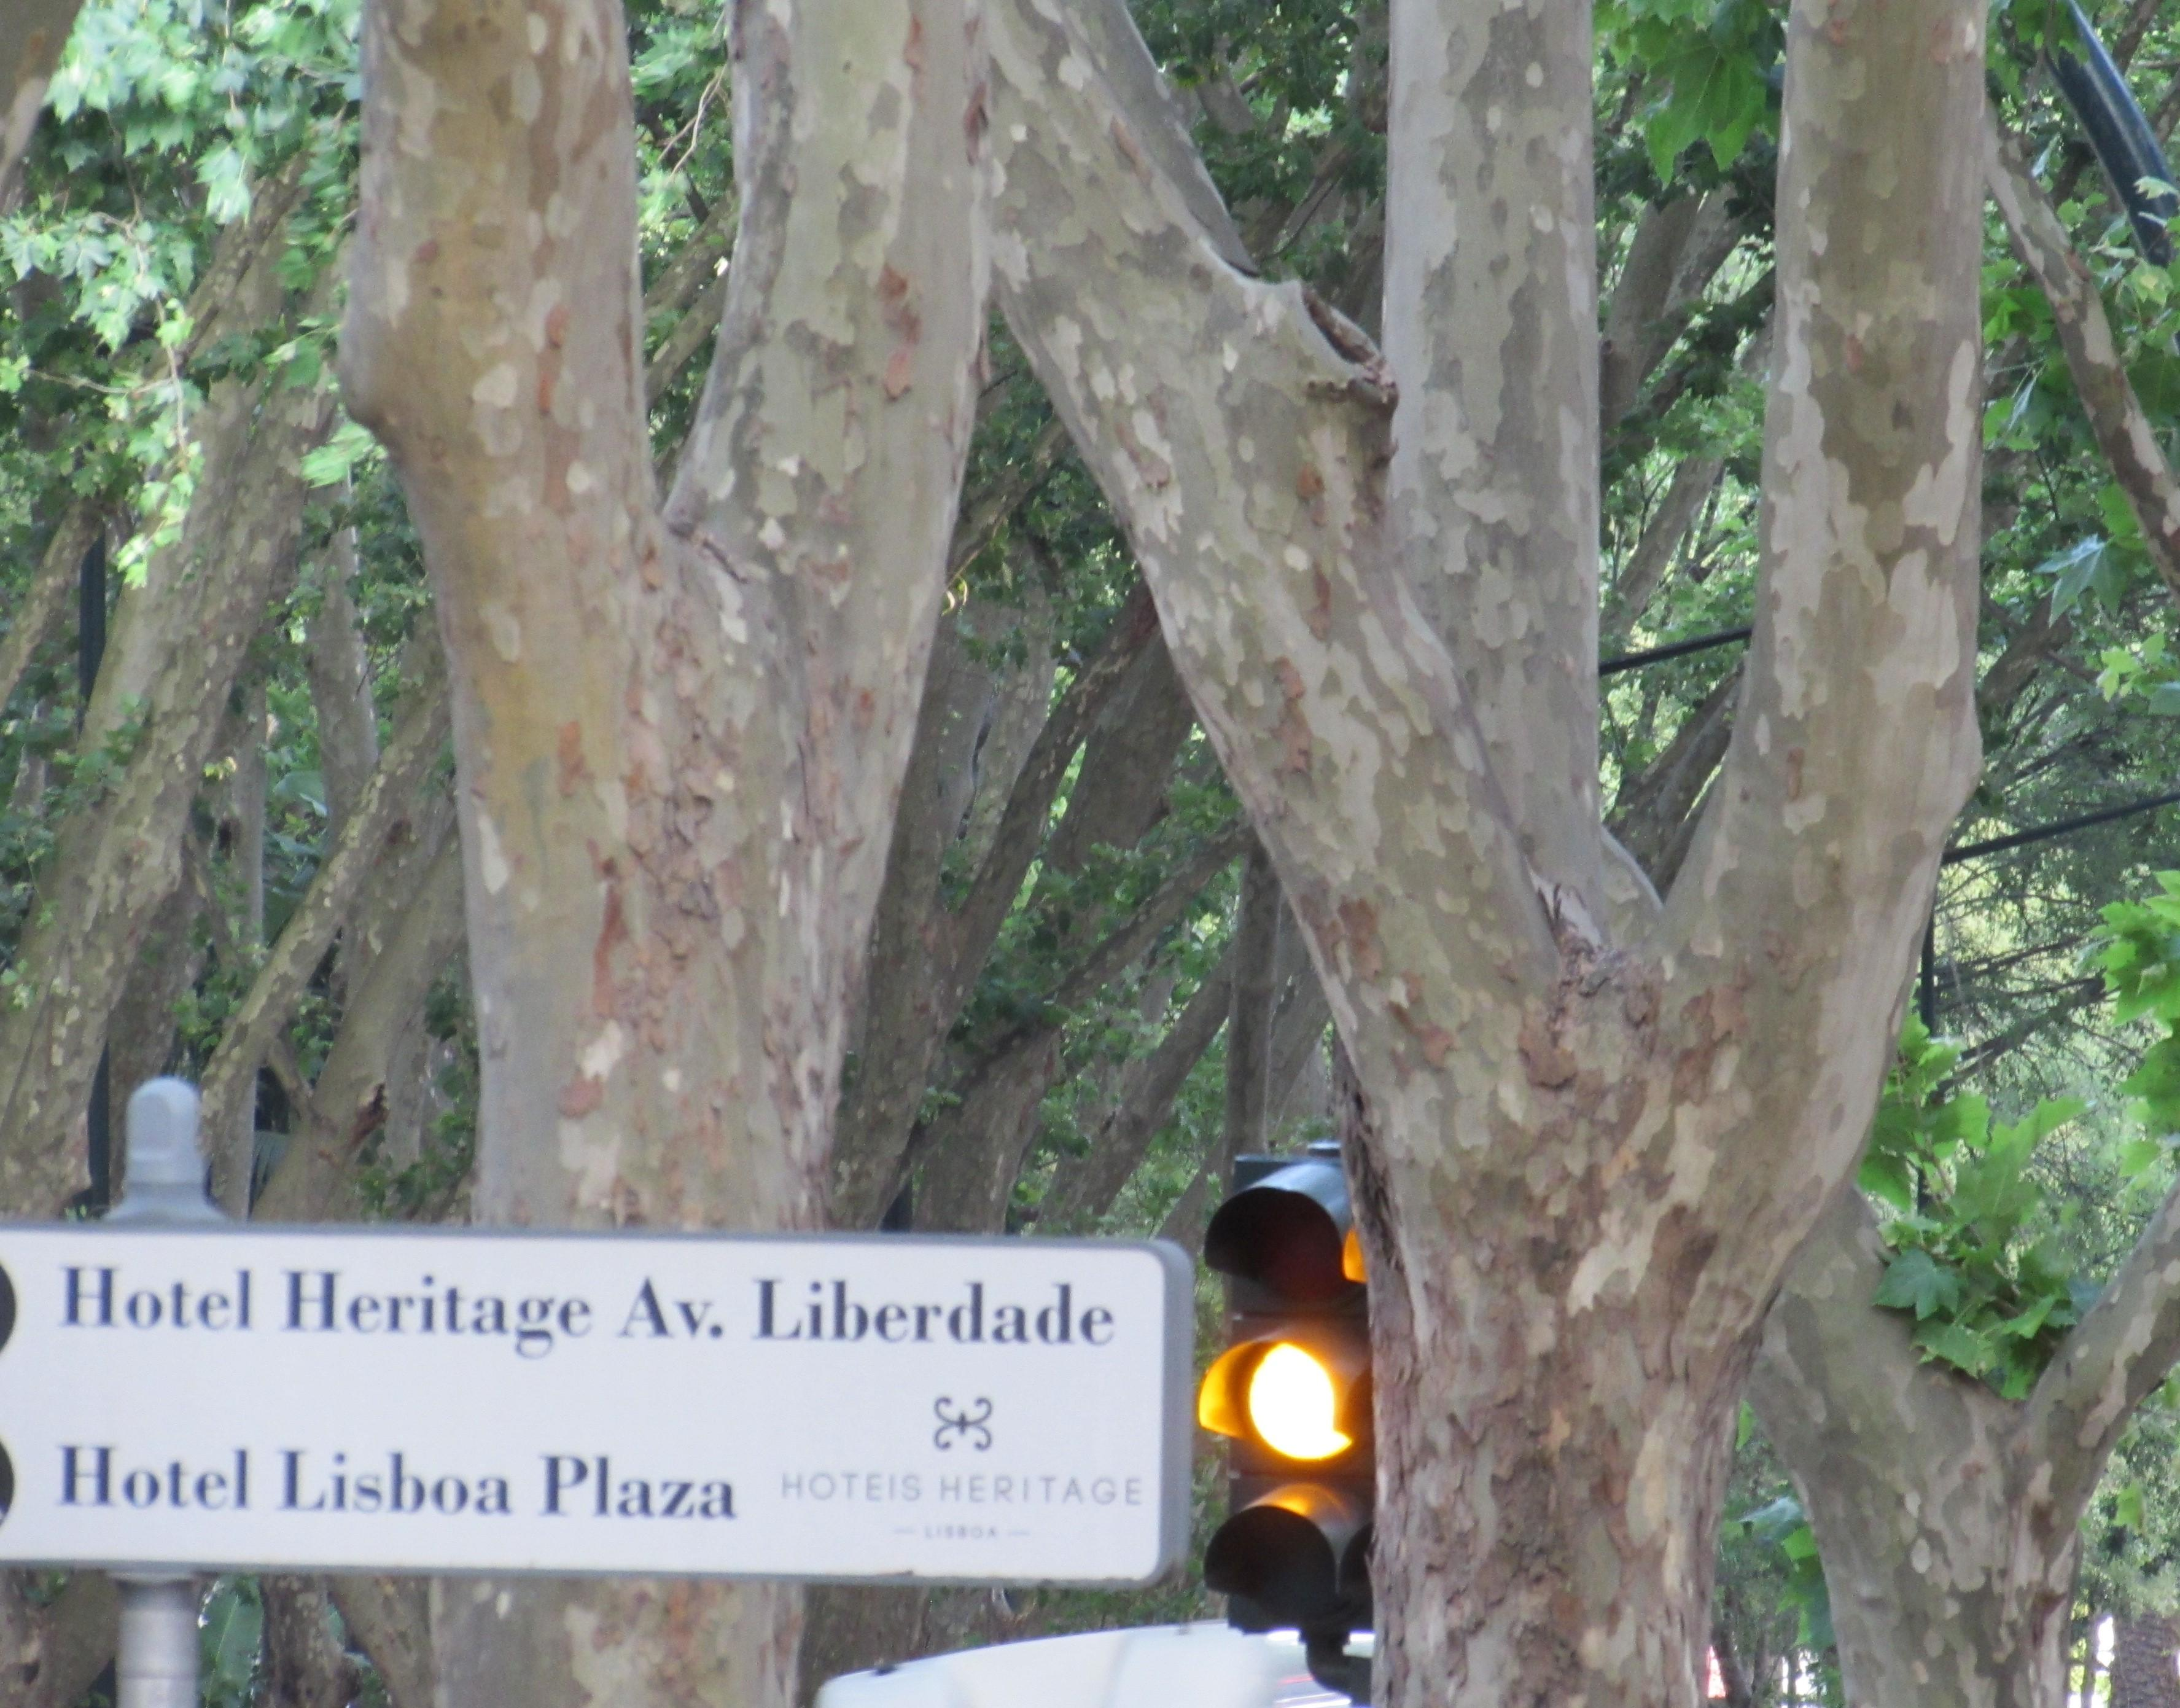yellow_light: (1198, 1161, 1387, 1634)
